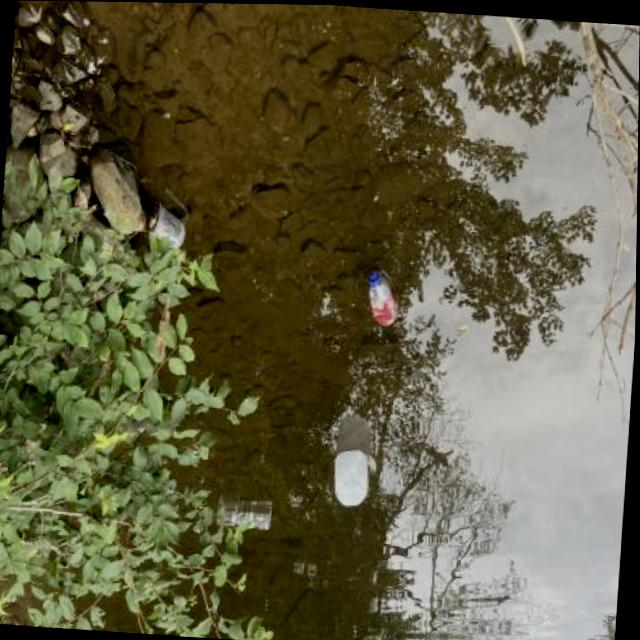Plastic: (329, 444, 380, 513), (362, 265, 405, 334), (142, 197, 193, 251), (215, 507, 276, 537)
